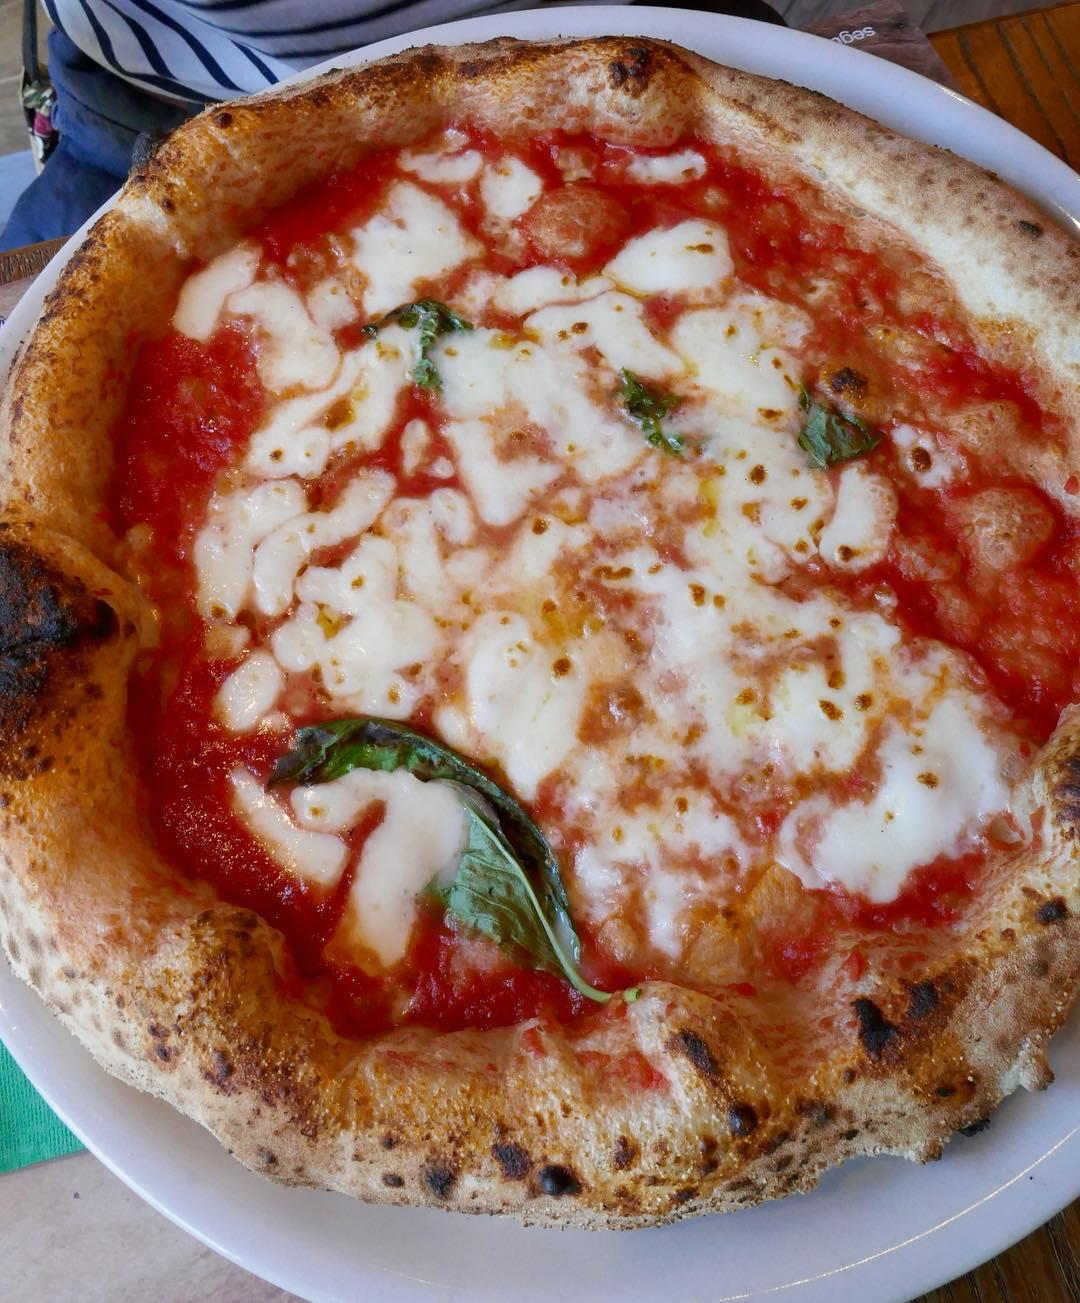Arugula: (446, 805, 589, 982), (275, 708, 500, 805)
Basil: (373, 290, 477, 402), (803, 369, 881, 461), (608, 369, 687, 448)
Cheese: (694, 608, 884, 742), (339, 556, 556, 673), (583, 493, 677, 755), (480, 276, 605, 457), (851, 734, 997, 872), (255, 419, 411, 547), (719, 444, 838, 583), (690, 274, 791, 422), (206, 558, 318, 681), (614, 799, 717, 913), (505, 679, 575, 771), (373, 215, 451, 289)
Pizza: (0, 50, 1080, 1215)
